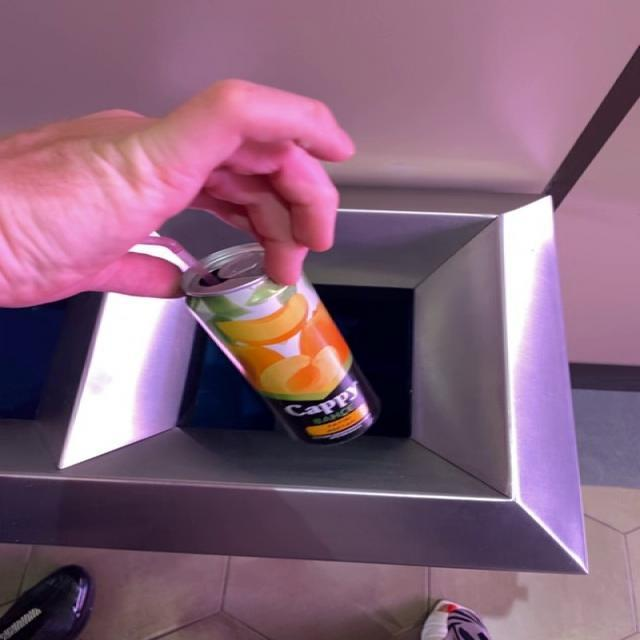Metal: (181, 244, 377, 444)
